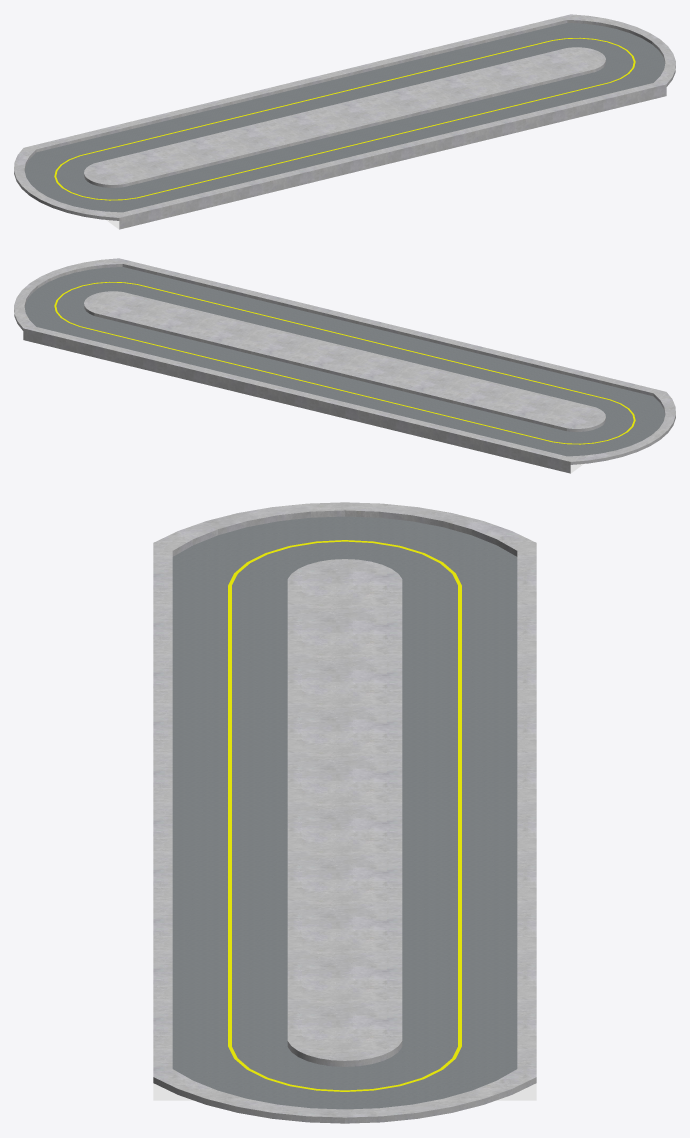
File: track2.dae
3 views of the same model, one above another, from view 1: azimuth 30°, elevation 25°; view 2: azimuth 150°, elevation 25°; view 3: azimuth 270°, elevation 25° (orthographic). The views are drawn at different scales.
Visible parts, largest first — view 1: SketchUp (×6); view 2: SketchUp (×6); view 3: SketchUp (×6).
Boxes of the visible parts, x1=… form: SketchUp (×6): x1=14, y1=14, x2=675, y2=229; SketchUp (×6): x1=14, y1=258, x2=675, y2=473; SketchUp (×6): x1=153, y1=502, x2=536, y2=1123.
Size of the model in its own units: 748 by 197 by 13.29.
4 materials, 2 textured.
